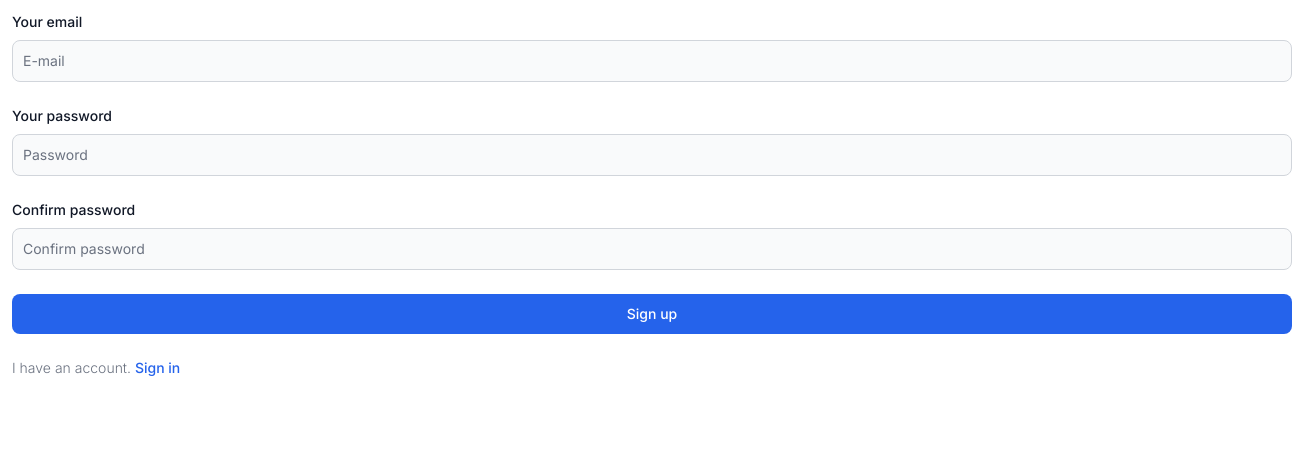
Test: AuthForm › displays error on password mismatch during registration
Type "test@example.com" into the field with placeholder "E-mail". click: [652, 61]
box: [12,40,1292,82]
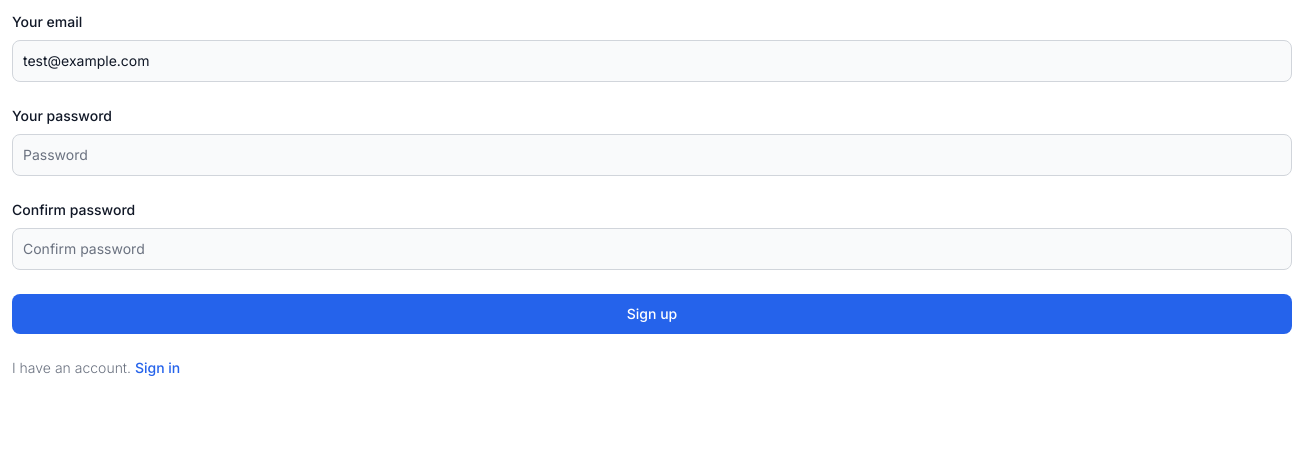
Type "password" into the password field with placeholder "password". click: [652, 155]
box: [12,134,1292,176]
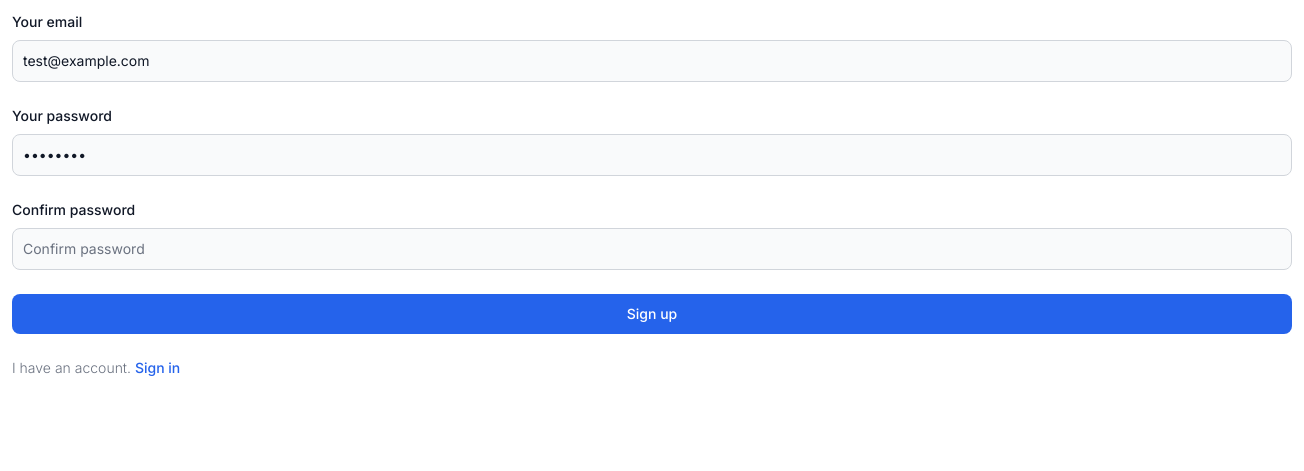
Type "differentPassword" into the password field with placeholder "Confirm password". click: [652, 249]
box: [12,228,1292,270]
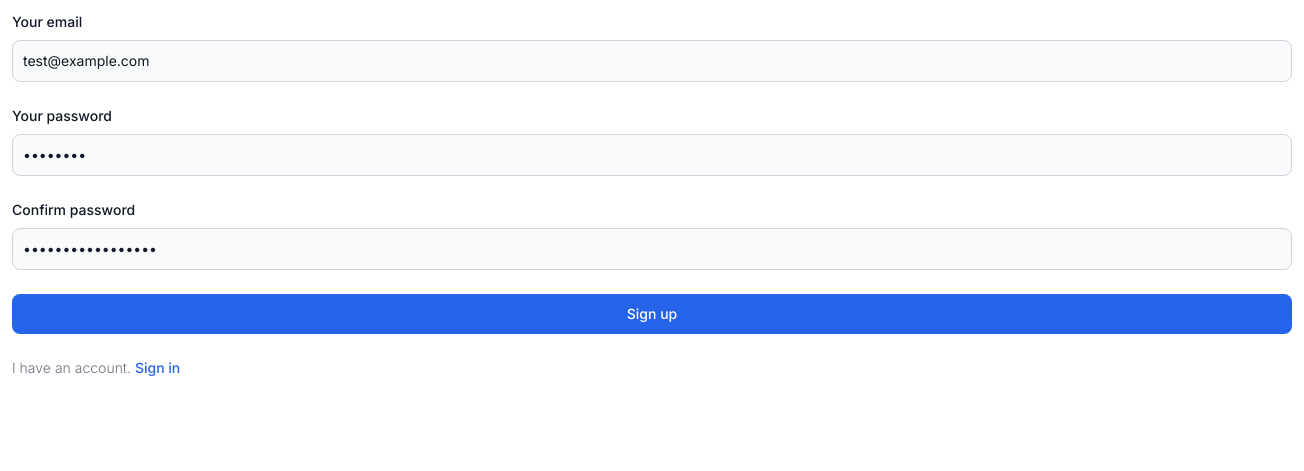
Click the button "Sign up". click: [652, 314]
box: [12,294,1292,334]
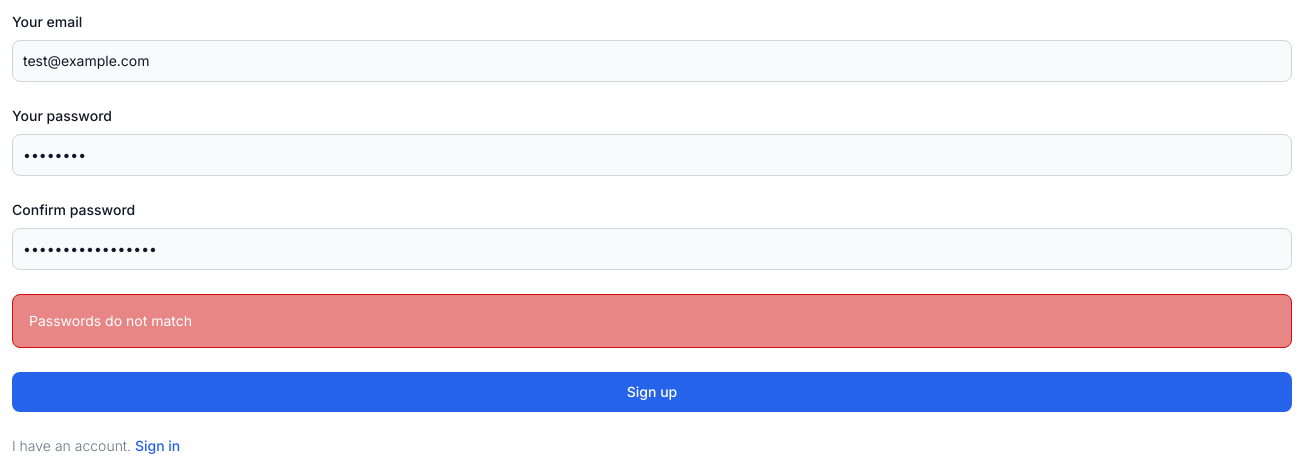
Now the message reads "Passwords do not match", box [29,312,192,329]
